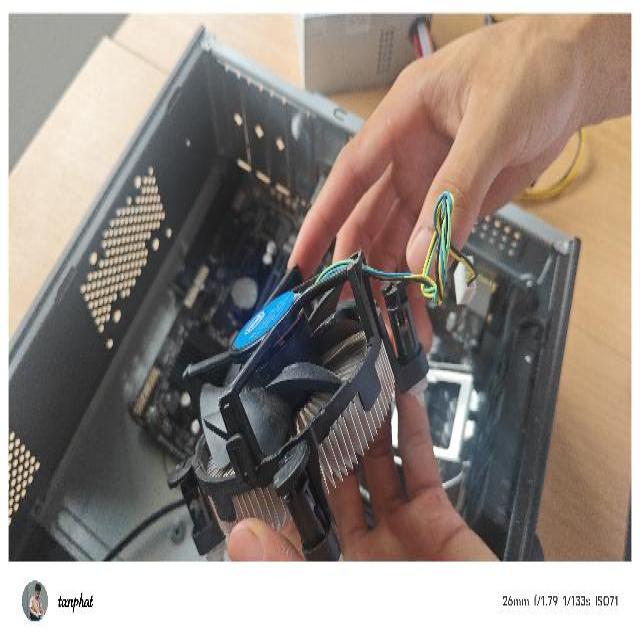CPU_Fan: (162, 242, 438, 562)
